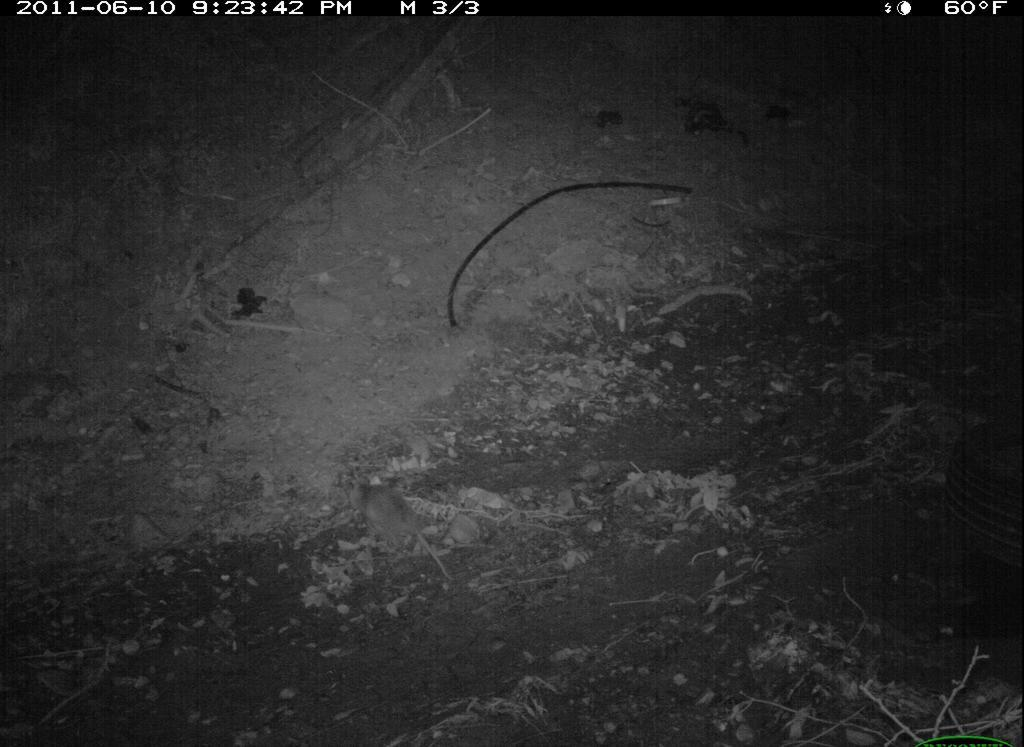opossum: (345, 477, 465, 593)
